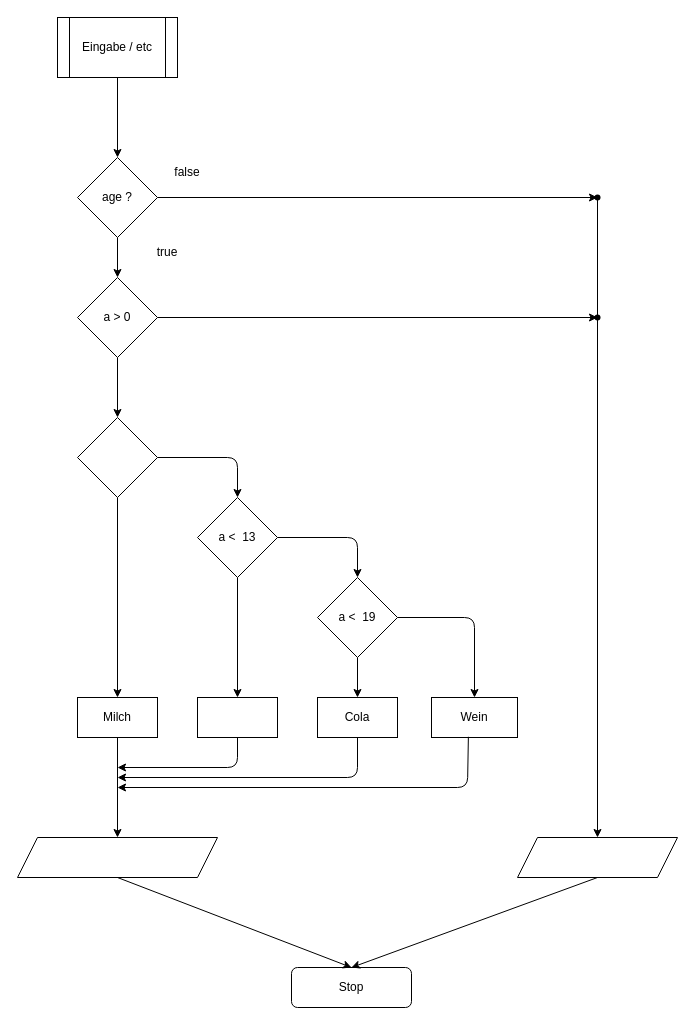
This 695x1025 diagram has some shape labels left out. Here are the shapes that lost their labels. From the top down, the box of each, then its label:
(76, 416, 158, 498): a < 6
(196, 696, 278, 738): Saft
(16, 836, 218, 878): Ausgabe Name / Getränk
(516, 836, 678, 878): Ausgabe Tee
